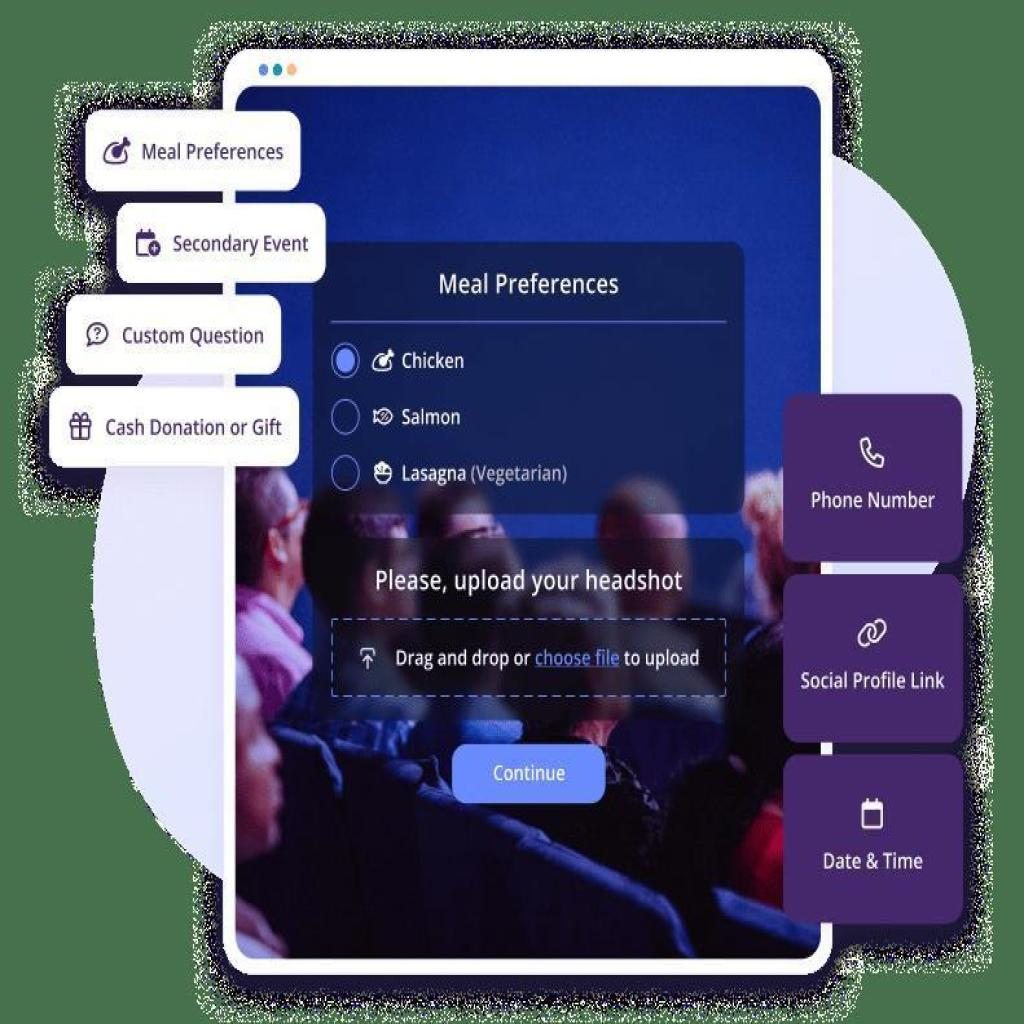button: (448, 739, 615, 808)
icon: (856, 794, 892, 840), (860, 432, 892, 478), (101, 132, 135, 172), (852, 613, 887, 651), (84, 317, 118, 355), (66, 406, 95, 450), (133, 228, 163, 268), (371, 455, 395, 494), (370, 401, 398, 433), (354, 644, 380, 674), (373, 345, 396, 376)
label: (430, 270, 630, 298), (401, 458, 571, 489), (401, 349, 469, 381), (398, 406, 464, 430)
radio: (328, 452, 365, 496), (330, 397, 363, 437), (330, 340, 361, 381)
